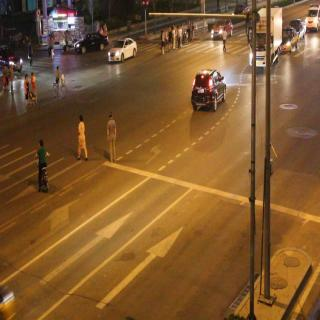BigCar: (252, 4, 282, 74)
Car: (193, 62, 228, 118), (109, 35, 140, 73), (76, 32, 111, 59), (280, 20, 298, 61), (306, 2, 320, 37), (289, 13, 303, 42)
